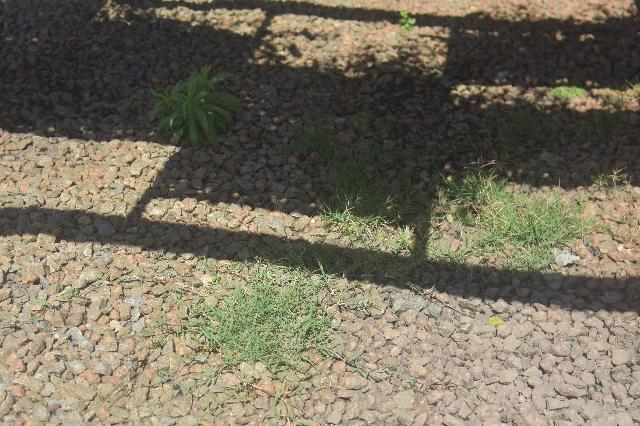MalezaMontesDelPlata: (177, 243, 337, 384), (436, 159, 593, 272), (142, 59, 244, 150), (313, 153, 404, 239), (284, 116, 342, 175)
